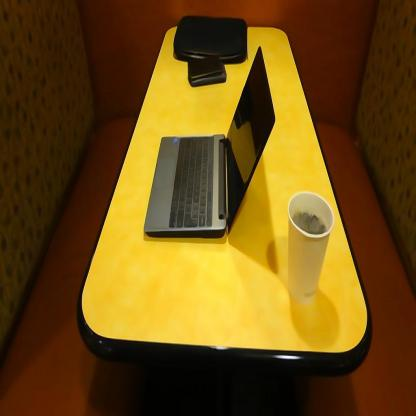board: (143, 44, 276, 238), (287, 193, 333, 301)
